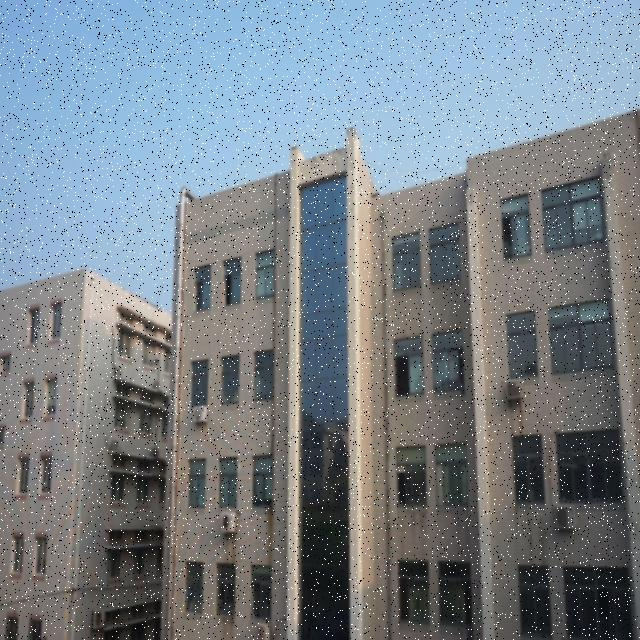UAV: (152, 358, 161, 363)
